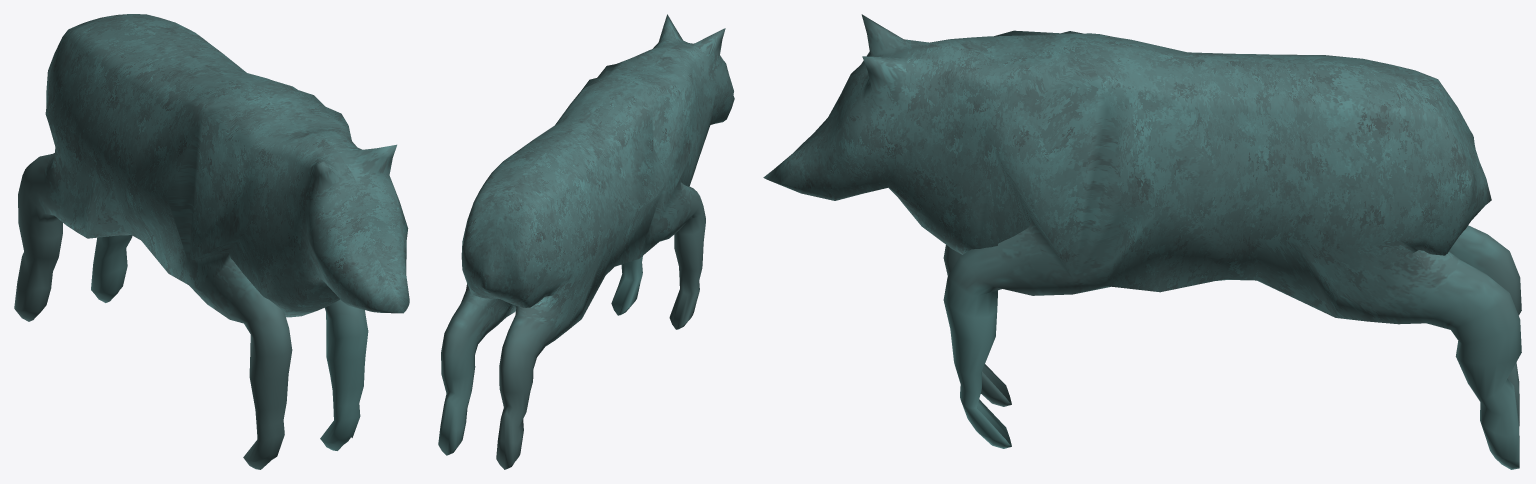
The model's file is piesblend_000025.obj.
3 views of the same model, side by side, from view 1: azimuth 30°, elevation 25°; view 2: azimuth 150°, elevation 25°; view 3: azimuth 270°, elevation 25° (orthographic). The views are drawn at different scales.
Parts seen in each view (by area): view 1: Cube; view 2: Cube; view 3: Cube.
Part boxes in pixels (box(x1,y1,x2,y2)): Cube: box(14, 14, 409, 469); Cube: box(438, 14, 734, 469); Cube: box(763, 14, 1521, 469).
Bounding box in the file's own units: 2.55 × 5.78 × 9.58.
1 material, 1 textured.
